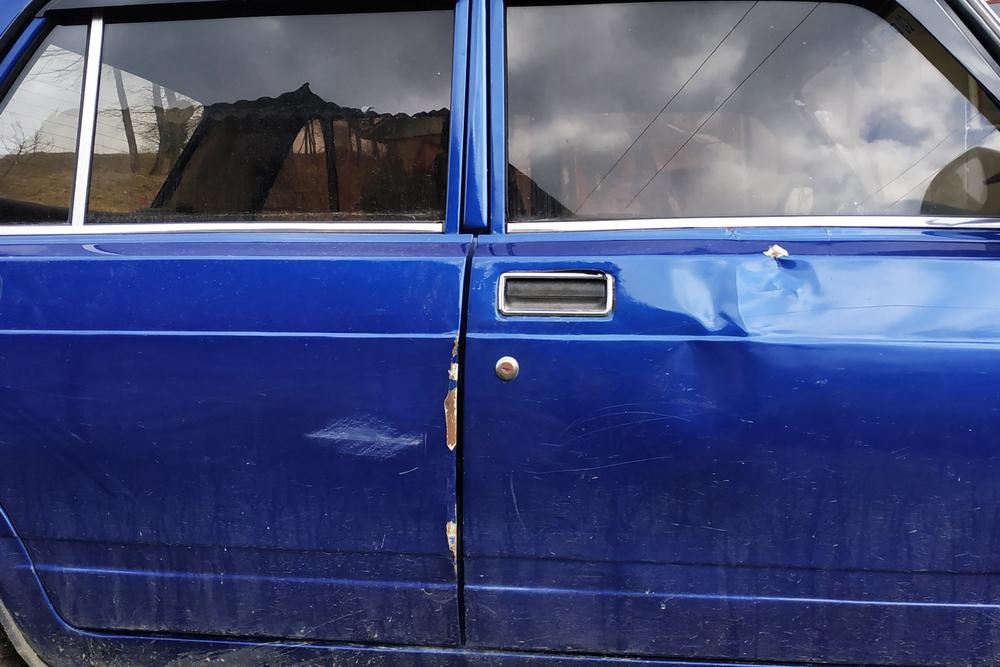dent: (666, 256, 822, 387)
scratch: (311, 410, 435, 465)
